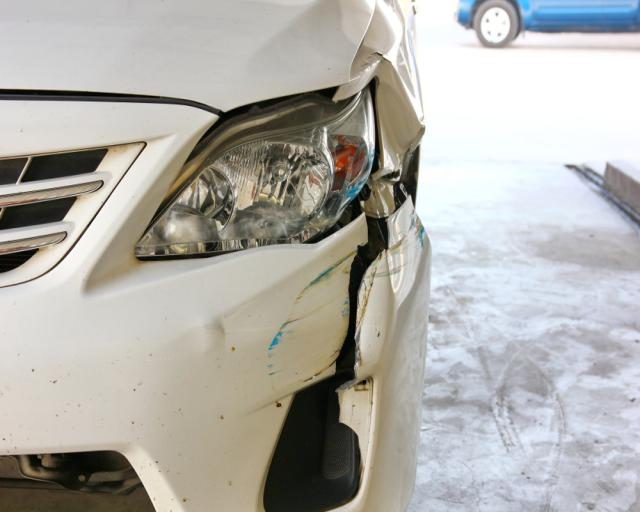crack: (336, 214, 389, 374)
dent: (367, 52, 419, 170)
scratch: (265, 248, 358, 398), (356, 195, 428, 364)
